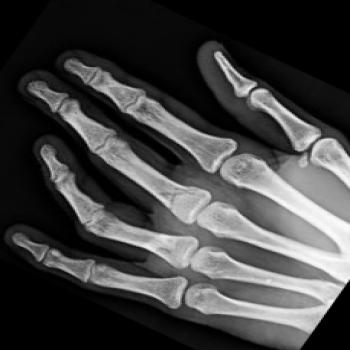Fracture: (150, 182, 204, 213)
